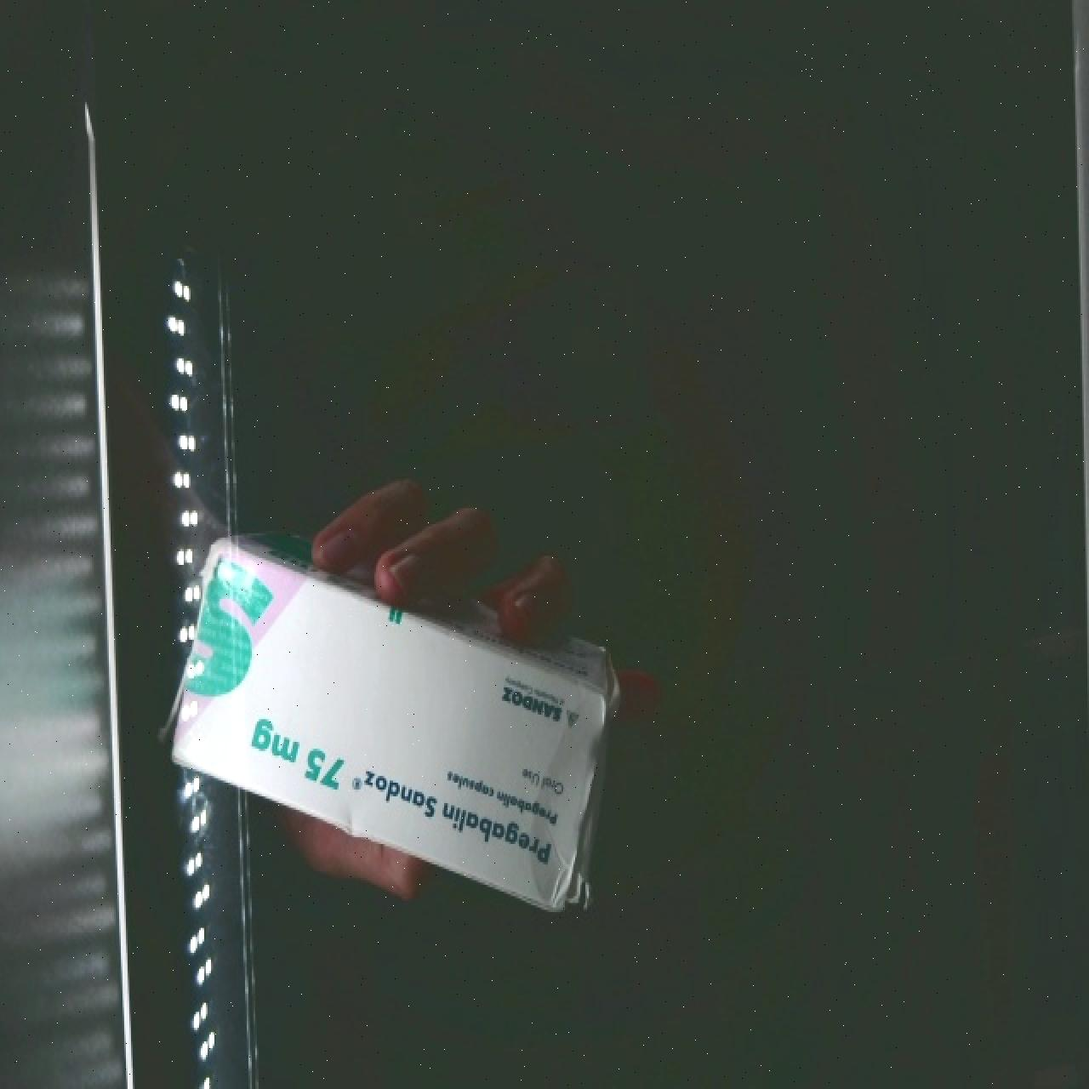medicine_label_obb: (331, 742, 587, 896)
